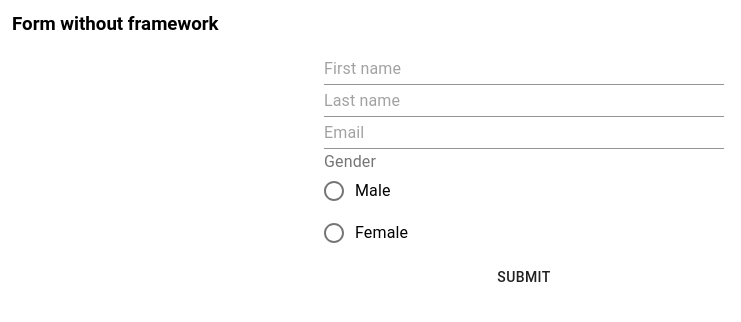
Test case: test Form Vanilla › should show error message after submit
Click the submit button: (524, 278) [324, 259, 724, 296]
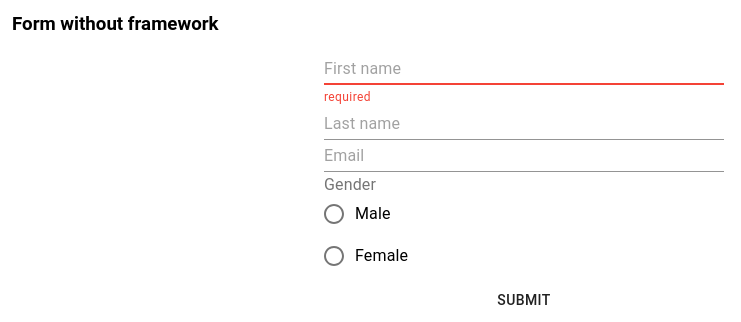
Check: the text "required" is shown, box [324, 90, 371, 104]
